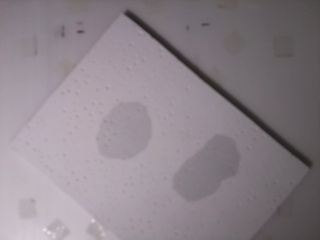Water_detected: (100, 104, 152, 163), (181, 149, 230, 194)
